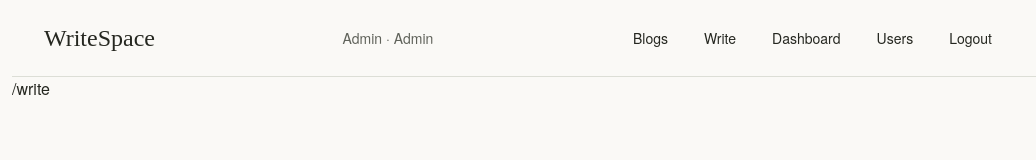
Scenario: Navbar › navigates through the Users link only on activation
The width and height of the screenshot is (1036, 160).
Expected: the text named "Location" reads "/write", [12, 77, 50, 100]
Click the link "Users".
click(895, 38)  # box [877, 28, 913, 48]
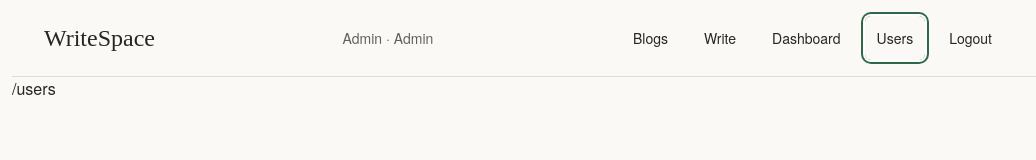
Result: the text named "Location" reads "/users" at [12, 77, 56, 100]
